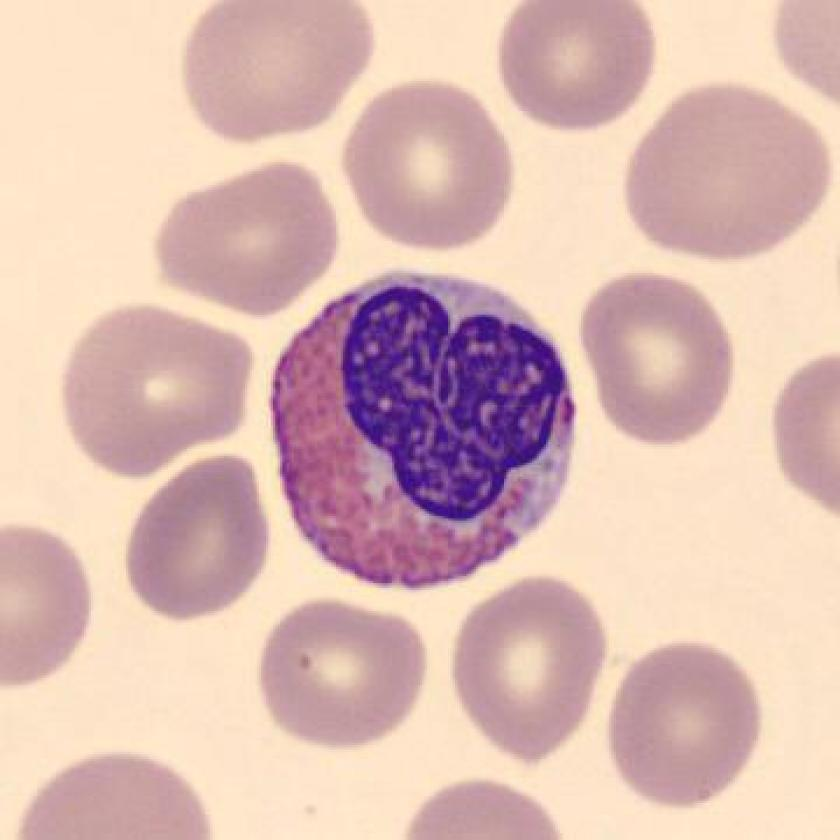eosinophil: (260, 263, 589, 596)
